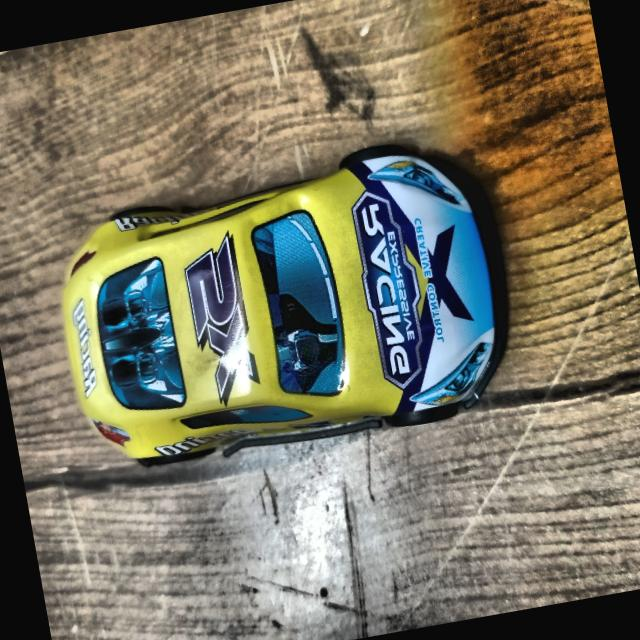Car: (44, 130, 516, 480)
